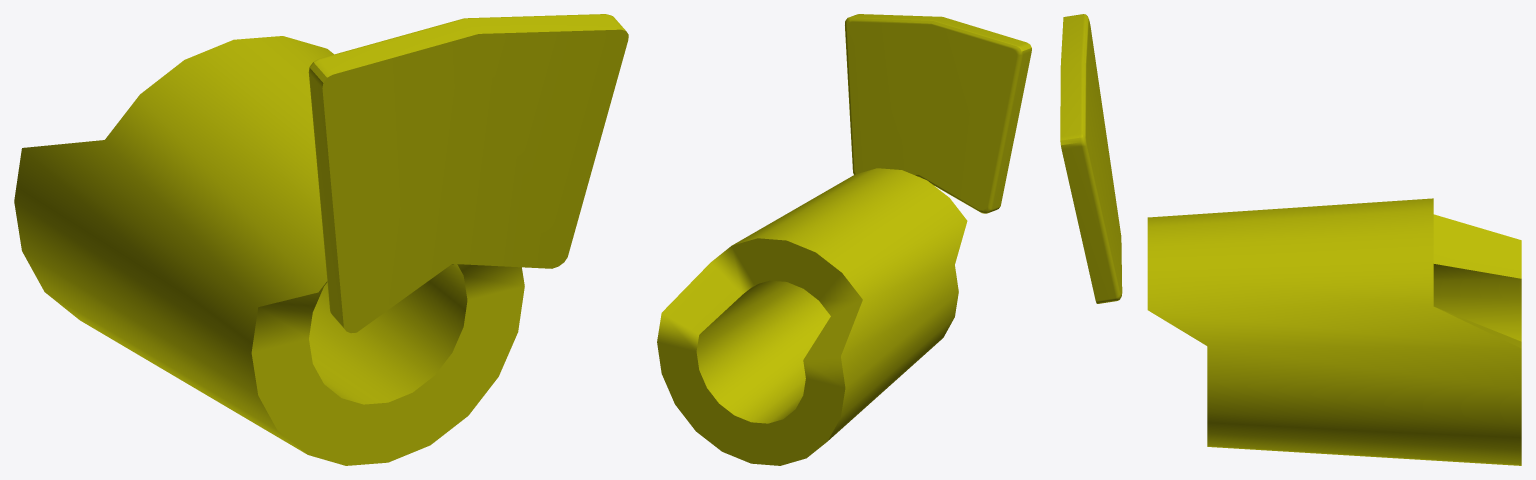
File: ironman.fbx
3 renders of one model, left to right at view 1: azimuth 30°, elevation 25°; view 2: azimuth 150°, elevation 25°; view 3: azimuth 270°, elevation 25°, orthographic. The views are drawn at different scales.
Visible parts, largest first — view 1: pPipe1, pCube1; view 2: pPipe1, pCube1; view 3: pPipe1, pCube1.
Boxes of the visible parts, x1,y1,x2,y2 form: pPipe1: [14, 36, 524, 465]; pCube1: [308, 14, 628, 333]; pPipe1: [657, 168, 967, 465]; pCube1: [845, 14, 1031, 213]; pPipe1: [1147, 198, 1521, 465]; pCube1: [1060, 14, 1122, 303].
Size of the model in its own units: 7.19 by 11.36 by 12.18.
